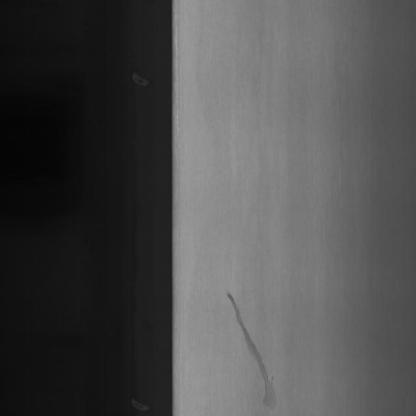water_spot: (224, 278, 284, 410)
